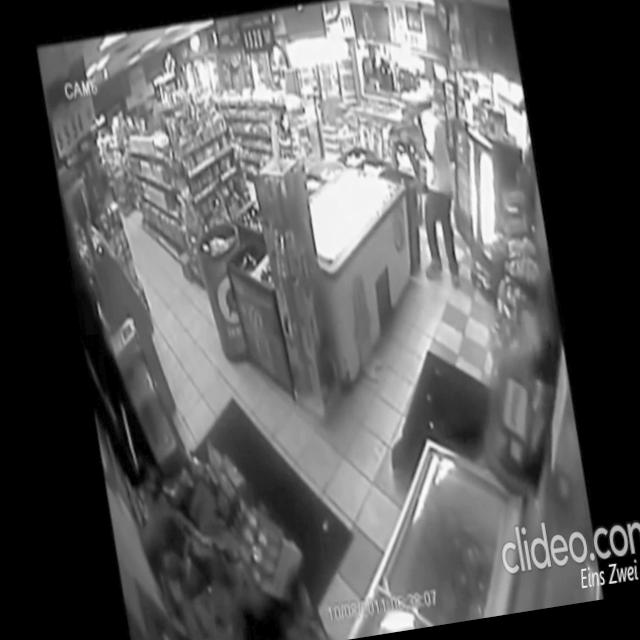person: (396, 81, 472, 292)
